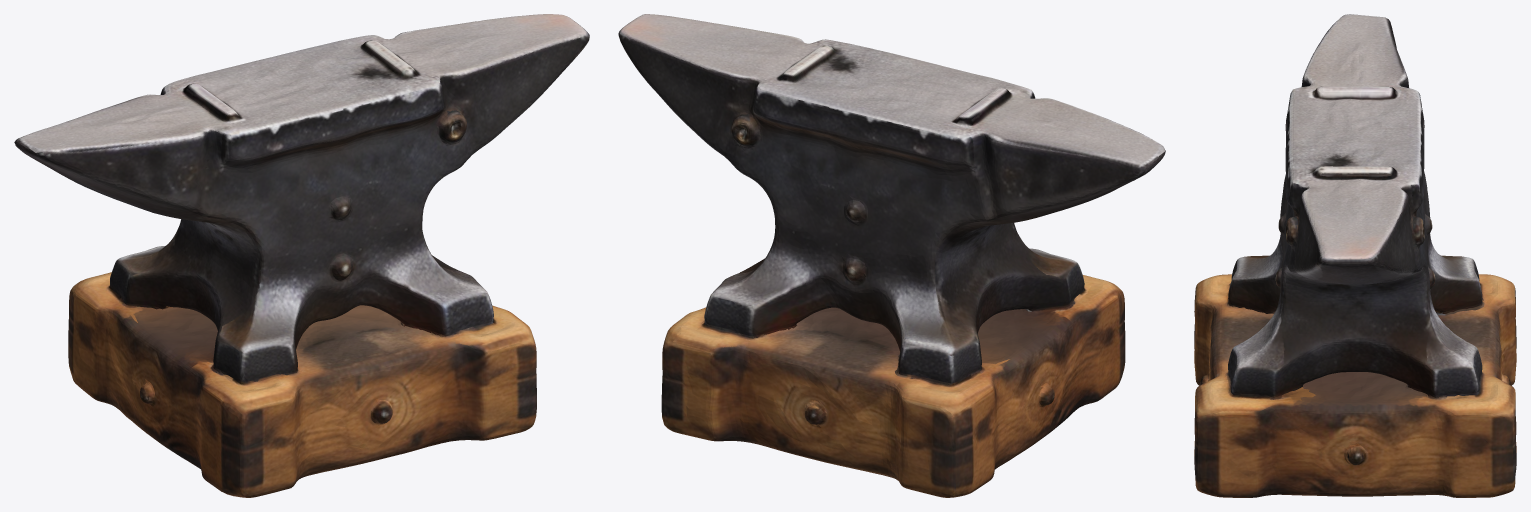
The model's file is mdl_anvil_001.glb.
The picture shows the model from 3 angles, left to right: view 1: azimuth 30°, elevation 25°; view 2: azimuth 150°, elevation 25°; view 3: azimuth 270°, elevation 25°; orthographic projection. The views are drawn at different scales.
Visible parts, largest first — view 1: tmpaglo505r.ply; view 2: tmpaglo505r.ply; view 3: tmpaglo505r.ply.
Part boxes in pixels (bbox=[...]): tmpaglo505r.ply: bbox=[14, 14, 589, 497]; tmpaglo505r.ply: bbox=[618, 14, 1165, 497]; tmpaglo505r.ply: bbox=[1194, 14, 1516, 497].
Bounding box in the file's own units: 0.9888 × 0.5757 × 0.5524.
1 material, 1 textured.
